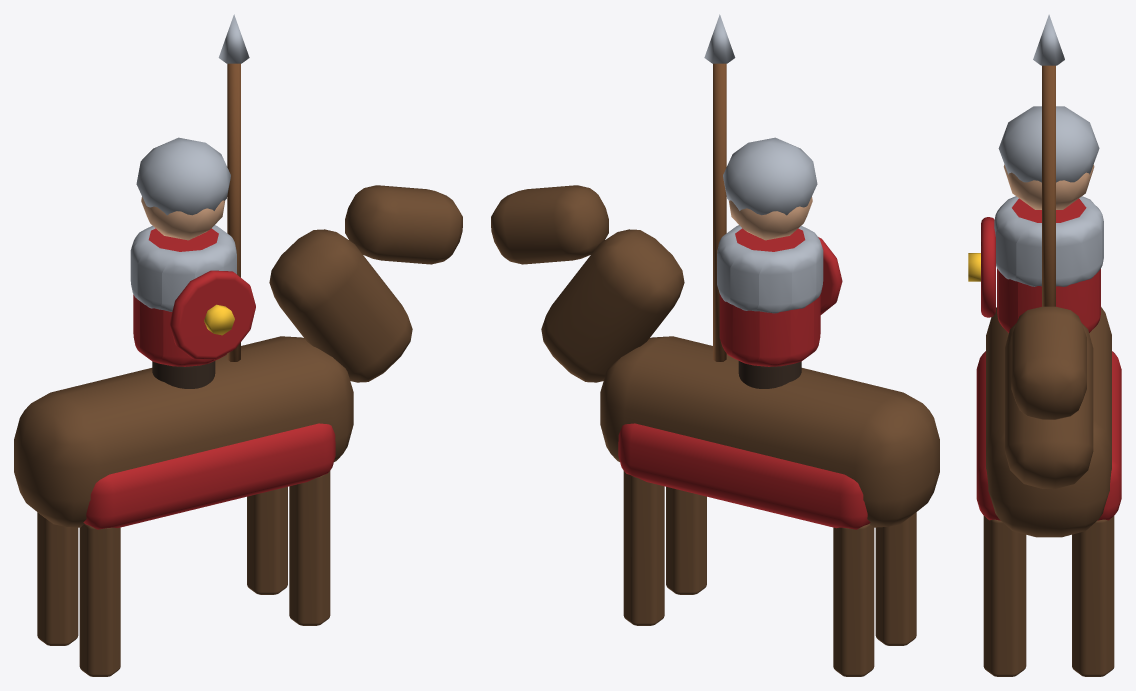
The model's file is knight_red.glb.
The picture shows the model from 3 angles, left to right: view 1: azimuth 30°, elevation 25°; view 2: azimuth 150°, elevation 25°; view 3: azimuth 270°, elevation 25°; orthographic projection. The views are drawn at different scales.
Parts seen in each view (by area): view 1: horse_body, horse_neck, caparison, horse_head, leg, leg.002, helm, shield, leg.001, chest, leg.003, torso (+5 smaller); view 2: horse_body, horse_neck, caparison, horse_head, chest, torso, leg.001, leg.003, helm, leg, leg.002, spear (+4 smaller); view 3: horse_body, horse_head, horse_neck, leg.002, chest, leg.003, helm, torso, caparison, spear, head, shield (+2 smaller).
Part boxes in pixels (<box>): horse_body: <box>14,336,353,527</box>; horse_neck: <box>269,229,412,382</box>; caparison: <box>83,423,335,529</box>; horse_head: <box>345,185,462,264</box>; leg: <box>79,524,120,676</box>; leg.002: <box>289,471,330,625</box>; helm: <box>136,137,230,215</box>; shield: <box>169,270,255,359</box>; leg.001: <box>37,512,78,645</box>; chest: <box>130,225,236,311</box>; leg.003: <box>247,486,287,594</box>; torso: <box>133,228,226,366</box>; horse_body: <box>600,336,939,527</box>; horse_neck: <box>541,229,684,382</box>; caparison: <box>618,423,870,529</box>; horse_head: <box>491,185,608,264</box>; chest: <box>717,225,823,313</box>; torso: <box>719,228,820,366</box>; leg.001: <box>833,524,874,676</box>; leg.003: <box>623,471,664,625</box>; helm: <box>723,137,817,215</box>; leg: <box>875,512,916,645</box>; leg.002: <box>666,486,706,594</box>; spear: <box>713,63,726,361</box>; horse_body: <box>986,307,1111,537</box>; horse_head: <box>1011,306,1086,419</box>; horse_neck: <box>1005,323,1093,488</box>; leg.002: <box>983,516,1026,676</box>; chest: <box>994,196,1103,286</box>; leg.003: <box>1072,516,1114,676</box>; helm: <box>998,106,1099,182</box>; torso: <box>997,198,1100,332</box>; caparison: <box>976,351,1121,520</box>; spear: <box>1042,65,1055,306</box>; head: <box>1003,164,1094,209</box>; shield: <box>981,217,995,317</box>.
Bounding box in the file's own units: 0.4097 × 0.55 × 0.1215.
